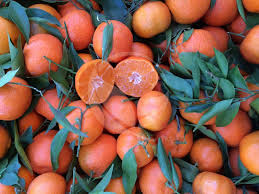orange: (116, 129, 157, 167), (156, 118, 194, 158), (137, 94, 171, 131)
